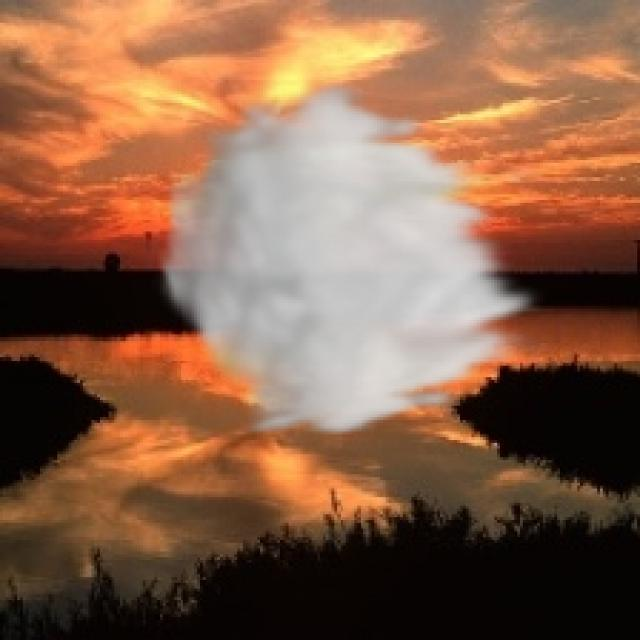Smoke: (152, 77, 552, 440)
